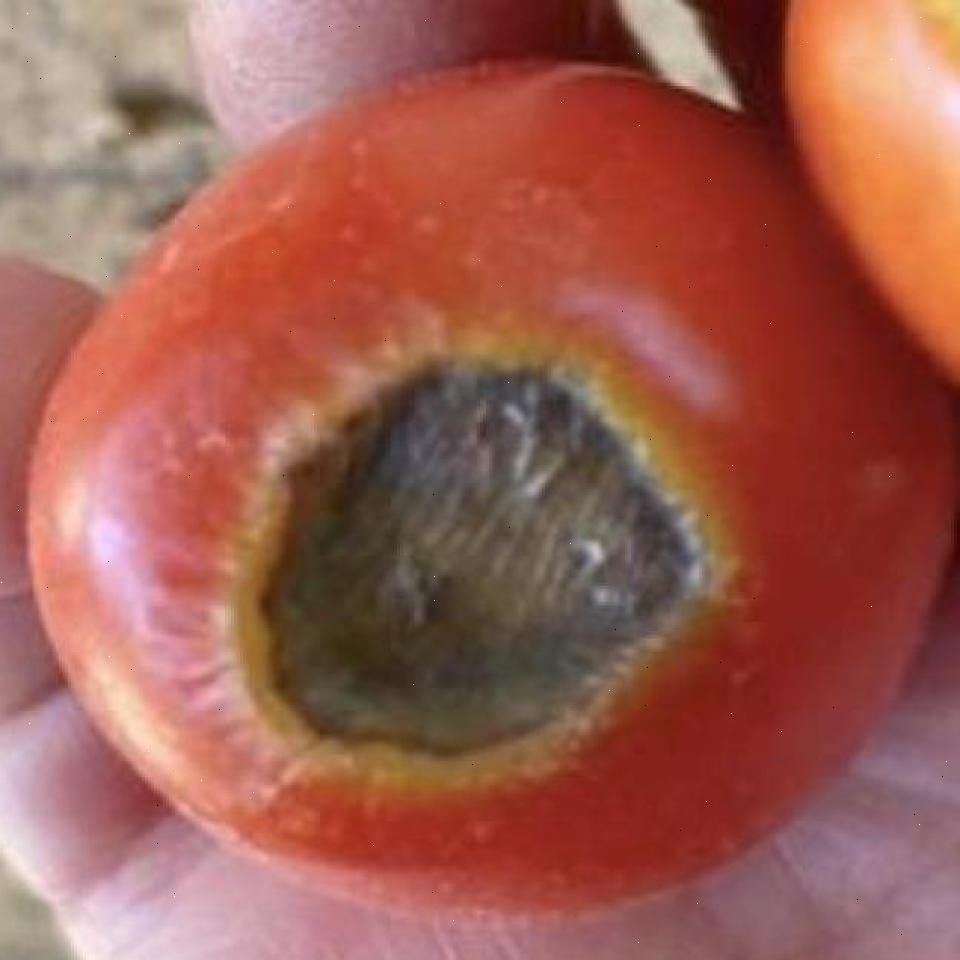Blossom_end_rot: (206, 332, 754, 796)
